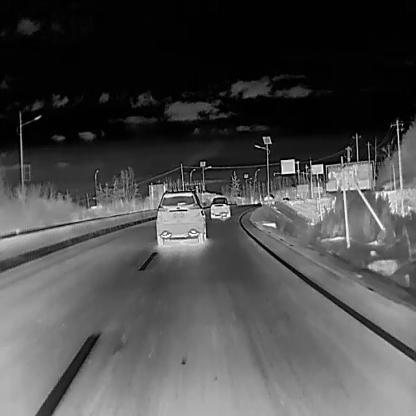car: (155, 191, 206, 246), (209, 197, 230, 220), (263, 193, 275, 206)
